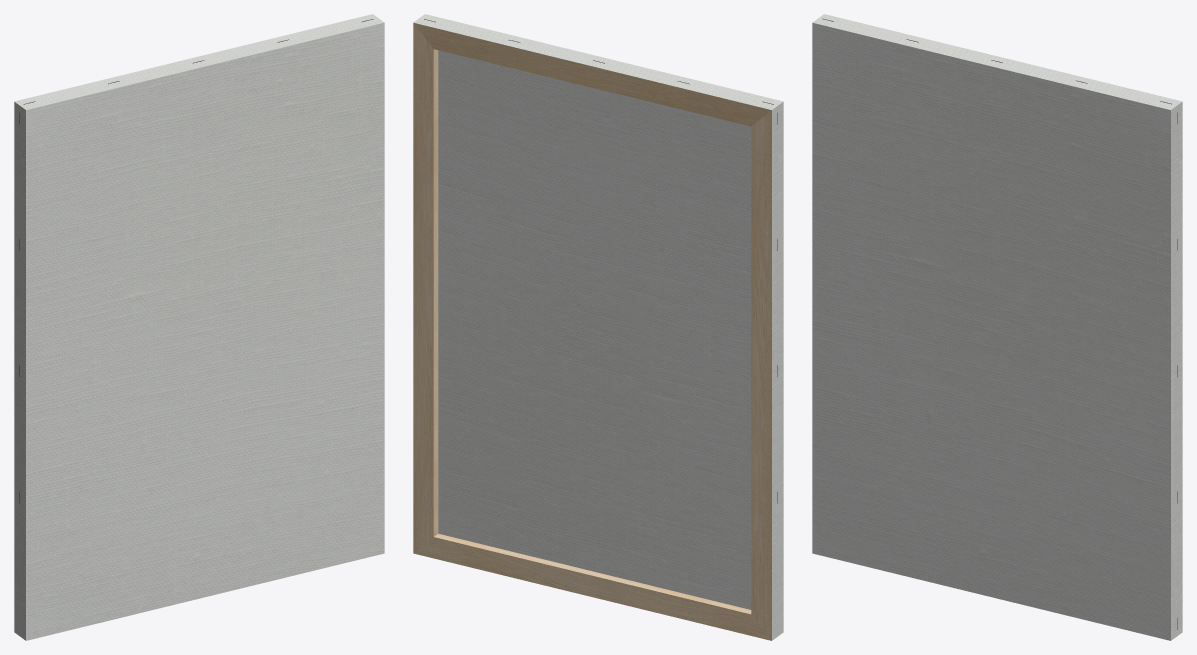
Rendered from quadro-branco.glb.
3 renders of one model, left to right at view 1: azimuth 30°, elevation 25°; view 2: azimuth 150°, elevation 25°; view 3: azimuth 330°, elevation 25°, orthographic.
Parts seen in each view (by area): view 1: Tela; view 2: Tela; view 3: Tela.
Boxes of the visible parts, left/top/right/bottom form: Tela: left=14, top=14, right=384, bottom=640; Tela: left=413, top=14, right=783, bottom=640; Tela: left=812, top=14, right=1182, bottom=640.
Bounding box in the file's own units: 0.2976 × 0.4209 × 0.017.
Materials: 3 (2 with a texture image).
